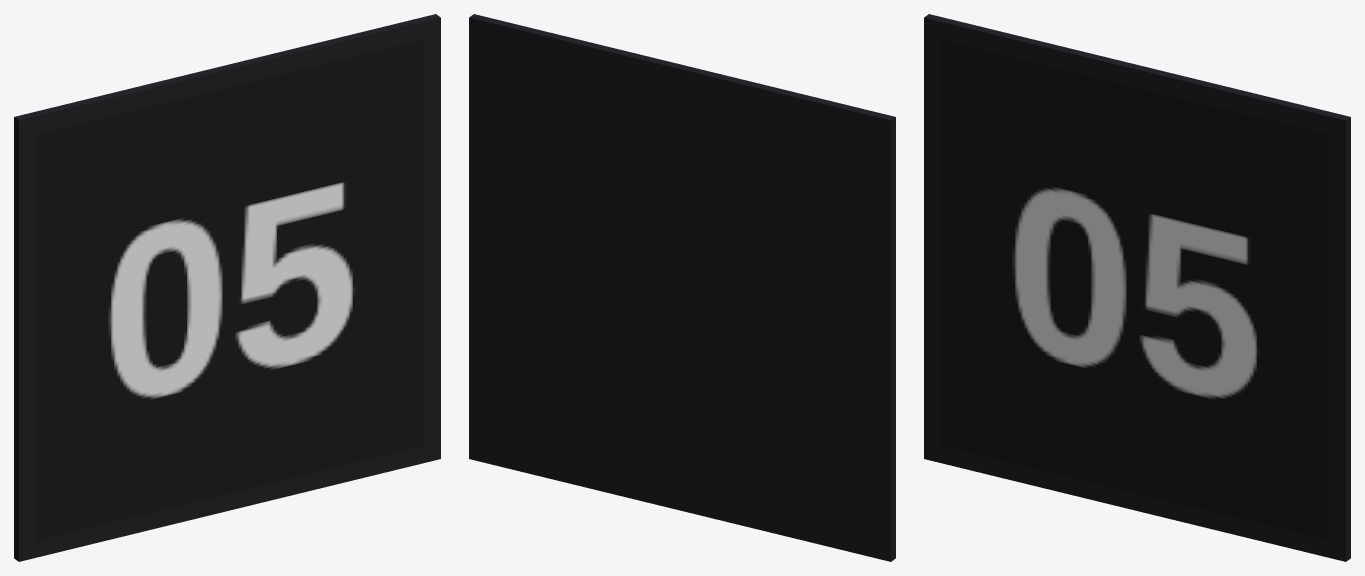
The model's file is bay_sign_05.glb.
3 renders of one model, left to right at view 1: azimuth 30°, elevation 25°; view 2: azimuth 150°, elevation 25°; view 3: azimuth 330°, elevation 25°, orthographic.
Parts seen in each view (by area): view 1: Bay_Sign_05, Bay_Sign_05_black_paint; view 2: Bay_Sign_05_black_paint; view 3: Bay_Sign_05, Bay_Sign_05_black_paint.
Boxes of the visible parts, x1,y1,x2,y2 form: Bay_Sign_05: (36, 39, 424, 540); Bay_Sign_05_black_paint: (14, 14, 440, 561); Bay_Sign_05_black_paint: (469, 14, 895, 561); Bay_Sign_05: (940, 39, 1328, 540); Bay_Sign_05_black_paint: (924, 14, 1350, 561).
Size of the model in its own units: 0.5 by 0.5 by 0.0111.
Materials: 2 (1 with a texture image).
